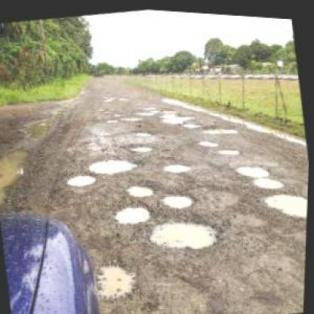Hueco: (148, 206, 223, 254), (94, 256, 143, 302), (88, 151, 141, 175), (114, 198, 155, 225), (235, 155, 273, 178), (254, 168, 288, 190), (163, 186, 195, 208), (126, 178, 159, 199), (66, 168, 100, 188), (203, 116, 239, 133), (161, 108, 195, 122), (165, 156, 192, 173), (127, 138, 156, 152), (220, 141, 242, 153), (197, 133, 221, 144), (182, 116, 203, 126), (134, 125, 154, 135)
